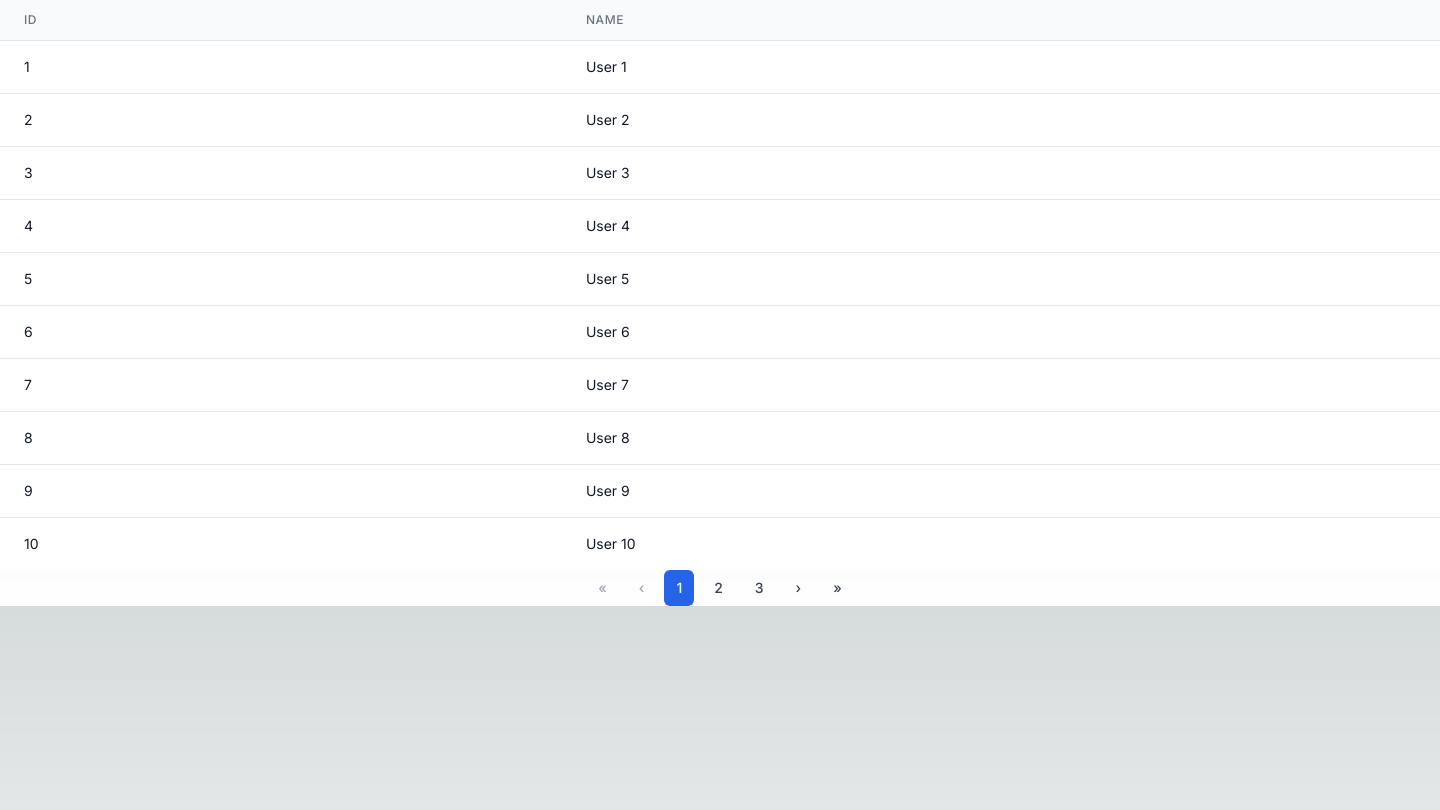
Component Integration › Table with Pagination › navigates to next page
The image size is (1440, 810).
Click the button named "Next page". click: coordinates (798, 588)
box: top-left (784, 570), bottom-right (813, 606)
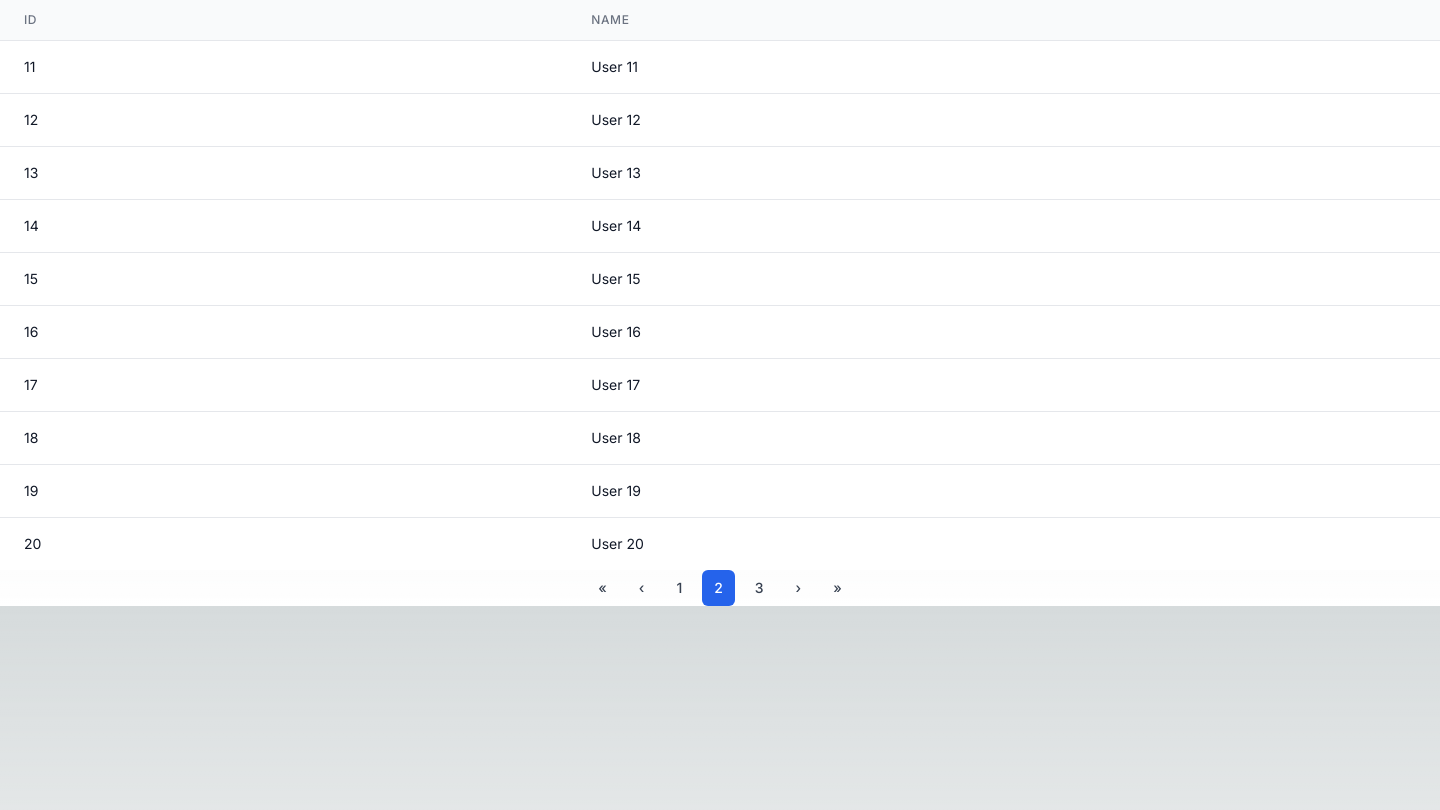
expect the text "User 11" is shown: met, box top-left (567, 40), bottom-right (1439, 94)
expect the text "User 20" is shown: met, box top-left (567, 518), bottom-right (1439, 570)
